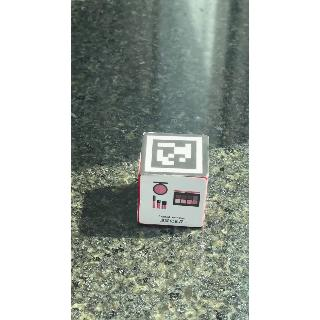Expired_Cosmetic: (140, 170, 209, 233)
